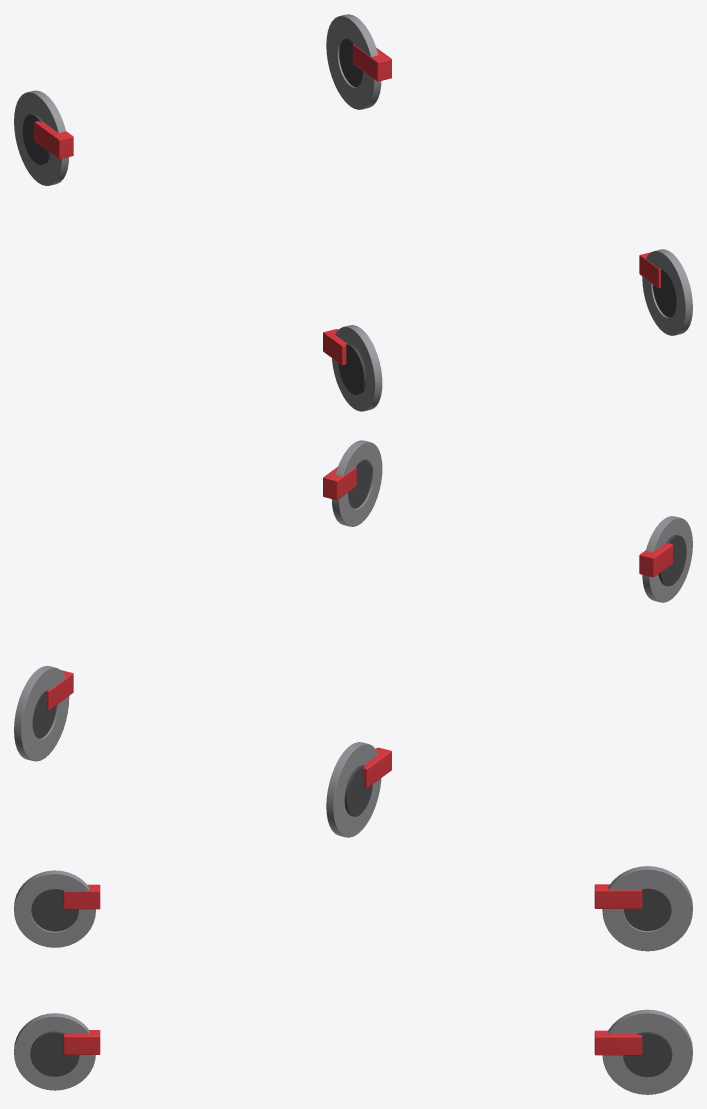
The model's file is brakes.glb.
3 views of the same model, one above another, from view 1: azimuth 30°, elevation 25°; view 2: azimuth 150°, elevation 25°; view 3: azimuth 270°, elevation 25° (orthographic). The views are drawn at different scales.
Parts seen in each view (by area): view 1: BRAKE_CarbonCeramic_Rotor_FL, BRAKE_CarbonCeramic_Rotor_FR, BRAKE_CarbonCeramic_Rotor_RL, BRAKE_CarbonCeramic_Rotor_RR, BRAKE_Brembo_Caliper_FR, BRAKE_Rotor_CenterHat_RR, BRAKE_Brembo_Caliper_FL, BRAKE_Rotor_CenterHat_FR, BRAKE_Rotor_CenterHat_RL, BRAKE_Rotor_CenterHat_FL, BRAKE_Brembo_Caliper_RR; view 2: BRAKE_CarbonCeramic_Rotor_FL, BRAKE_CarbonCeramic_Rotor_FR, BRAKE_CarbonCeramic_Rotor_RL, BRAKE_CarbonCeramic_Rotor_RR, BRAKE_Rotor_CenterHat_FR, BRAKE_Brembo_Caliper_RR, BRAKE_Rotor_CenterHat_RR, BRAKE_Brembo_Caliper_RL, BRAKE_Brembo_Caliper_FR, BRAKE_Rotor_CenterHat_RL, BRAKE_Rotor_CenterHat_FL, BRAKE_Brembo_Caliper_FL; view 3: BRAKE_CarbonCeramic_Rotor_FR, BRAKE_CarbonCeramic_Rotor_FL, BRAKE_CarbonCeramic_Rotor_RR, BRAKE_CarbonCeramic_Rotor_RL, BRAKE_Rotor_CenterHat_RL, BRAKE_Rotor_CenterHat_FL, BRAKE_Rotor_CenterHat_RR, BRAKE_Rotor_CenterHat_FR, BRAKE_Brembo_Caliper_FL, BRAKE_Brembo_Caliper_FR, BRAKE_Brembo_Caliper_RL, BRAKE_Brembo_Caliper_RR.
Part boxes in pixels (x1=…): BRAKE_CarbonCeramic_Rotor_FL: x1=326, y1=14, x2=381, y2=109; BRAKE_CarbonCeramic_Rotor_FR: x1=14, y1=90, x2=68, y2=185; BRAKE_CarbonCeramic_Rotor_RL: x1=642, y1=249, x2=692, y2=335; BRAKE_CarbonCeramic_Rotor_RR: x1=332, y1=325, x2=382, y2=411; BRAKE_Brembo_Caliper_FR: x1=34, y1=121, x2=73, y2=159; BRAKE_Rotor_CenterHat_RR: x1=338, y1=344, x2=366, y2=395; BRAKE_Brembo_Caliper_FL: x1=352, y1=44, x2=391, y2=81; BRAKE_Rotor_CenterHat_FR: x1=22, y1=113, x2=50, y2=164; BRAKE_Rotor_CenterHat_RL: x1=653, y1=269, x2=676, y2=317; BRAKE_Rotor_CenterHat_FL: x1=339, y1=38, x2=362, y2=87; BRAKE_Brembo_Caliper_RR: x1=323, y1=329, x2=347, y2=365; BRAKE_CarbonCeramic_Rotor_FL: x1=14, y1=666, x2=69, y2=761; BRAKE_CarbonCeramic_Rotor_FR: x1=326, y1=742, x2=381, y2=837; BRAKE_CarbonCeramic_Rotor_RL: x1=331, y1=440, x2=382, y2=526; BRAKE_CarbonCeramic_Rotor_RR: x1=642, y1=516, x2=692, y2=602; BRAKE_Rotor_CenterHat_FR: x1=344, y1=765, x2=372, y2=816; BRAKE_Brembo_Caliper_RR: x1=639, y1=543, x2=672, y2=577; BRAKE_Rotor_CenterHat_RR: x1=658, y1=535, x2=686, y2=586; BRAKE_Brembo_Caliper_RL: x1=323, y1=467, x2=356, y2=500; BRAKE_Brembo_Caliper_FR: x1=363, y1=747, x2=391, y2=788; BRAKE_Rotor_CenterHat_RL: x1=348, y1=460, x2=371, y2=508; BRAKE_Rotor_CenterHat_FL: x1=32, y1=691, x2=56, y2=738; BRAKE_Brembo_Caliper_FL: x1=46, y1=670, x2=73, y2=710; BRAKE_CarbonCeramic_Rotor_FR: x1=602, y1=866, x2=692, y2=951; BRAKE_CarbonCeramic_Rotor_FL: x1=602, y1=1009, x2=692, y2=1094; BRAKE_CarbonCeramic_Rotor_RR: x1=14, y1=870, x2=95, y2=947; BRAKE_CarbonCeramic_Rotor_RL: x1=14, y1=1013, x2=95, y2=1090; BRAKE_Rotor_CenterHat_RL: x1=30, y1=1031, x2=79, y2=1076; BRAKE_Rotor_CenterHat_FL: x1=623, y1=1031, x2=672, y2=1077; BRAKE_Rotor_CenterHat_RR: x1=31, y1=889, x2=78, y2=931; BRAKE_Rotor_CenterHat_FR: x1=624, y1=888, x2=671, y2=931; BRAKE_Brembo_Caliper_FL: x1=594, y1=1030, x2=642, y2=1055; BRAKE_Brembo_Caliper_FR: x1=594, y1=884, x2=642, y2=908; BRAKE_Brembo_Caliper_RL: x1=63, y1=1030, x2=100, y2=1054; BRAKE_Brembo_Caliper_RR: x1=63, y1=884, x2=100, y2=909.
Size of the model in its own units: 1.68 by 0.42 by 3.15.
